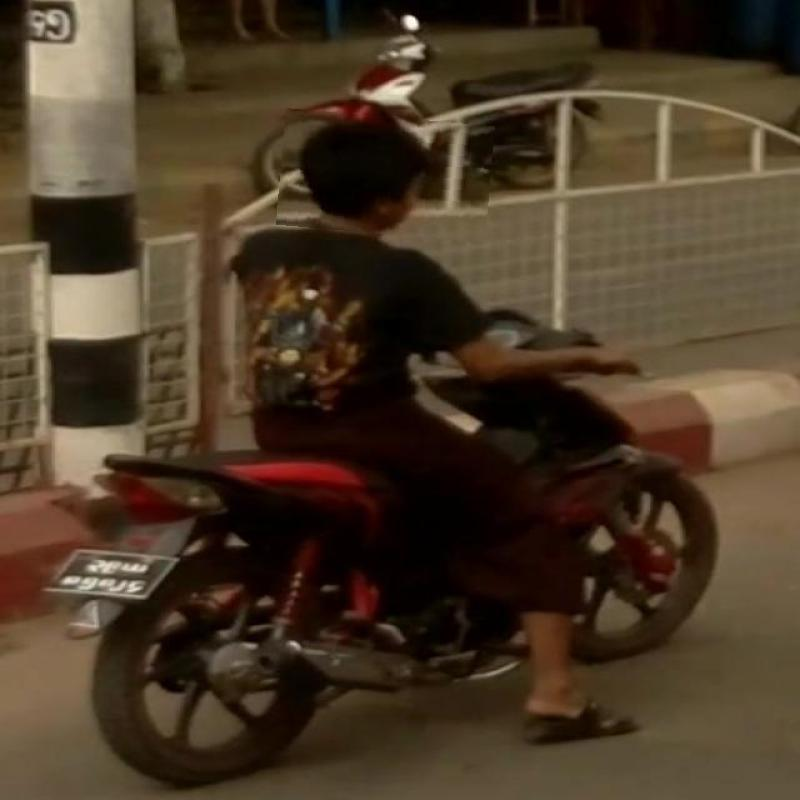nohelmet: (278, 112, 493, 238)
